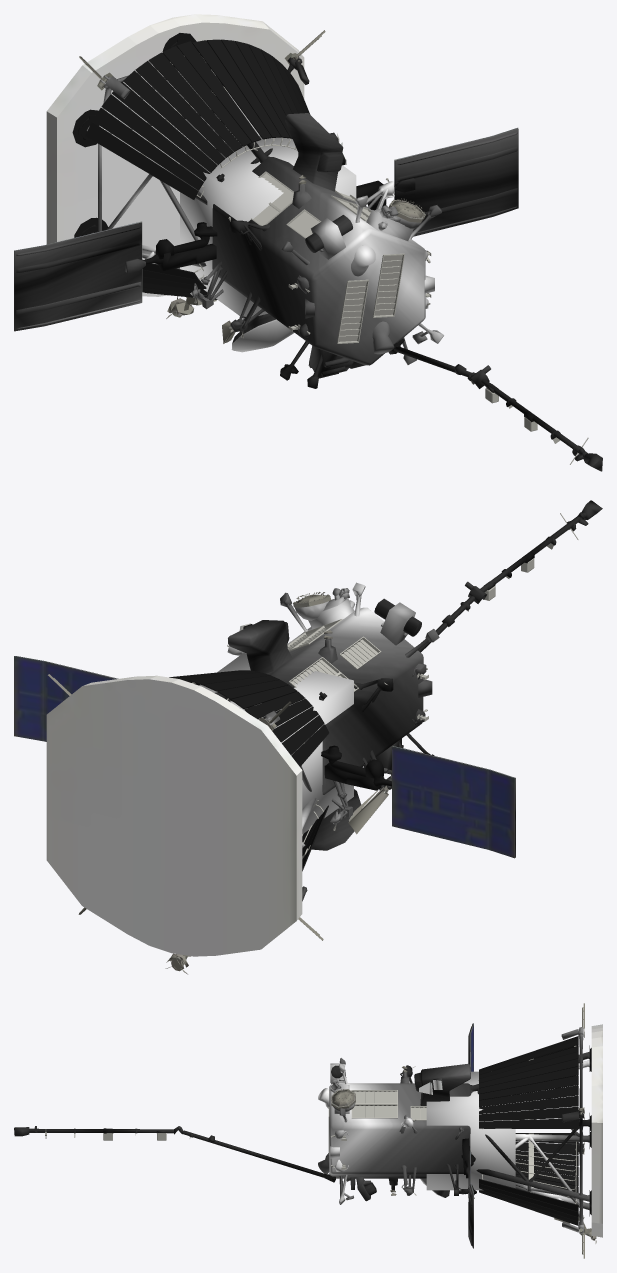
Rendered from space-parker.glb.
The picture shows the model from 3 angles, top to bottom: view 1: azimuth 30°, elevation 25°; view 2: azimuth 150°, elevation 25°; view 3: azimuth 270°, elevation 25°; orthographic projection. The views are drawn at different scales.
Parts seen in each view (by area): view 1: BUS, CoolingSystem, Instruments, _root, CoolingSystem_frame, solarArray_arms, HGA, magnetometers; view 2: Instruments, BUS, CoolingSystem, _root, CoolingSystem_frame, solarArray_arms; view 3: BUS, CoolingSystem, _root, Instruments, CoolingSystem_frame.
Part boxes in pixels (x1,y1,x2,y2): BUS: [14, 49, 602, 471]; CoolingSystem: [72, 33, 310, 299]; Instruments: [14, 14, 517, 343]; _root: [180, 136, 356, 318]; CoolingSystem_frame: [103, 56, 404, 343]; solarArray_arms: [143, 180, 396, 270]; HGA: [232, 319, 294, 352]; magnetometers: [194, 178, 588, 464]; Instruments: [14, 592, 514, 974]; BUS: [16, 500, 602, 901]; CoolingSystem: [169, 670, 329, 871]; _root: [199, 653, 353, 834]; CoolingSystem_frame: [192, 619, 381, 858]; solarArray_arms: [321, 745, 391, 790]; BUS: [14, 1023, 589, 1248]; CoolingSystem: [479, 1036, 591, 1225]; _root: [426, 1071, 515, 1190]; Instruments: [330, 1003, 602, 1258]; CoolingSystem_frame: [328, 1045, 576, 1204].
Bounding box in the file's own units: 4.51 × 2.52 × 6.61.
Materials: 6 (2 with a texture image).
